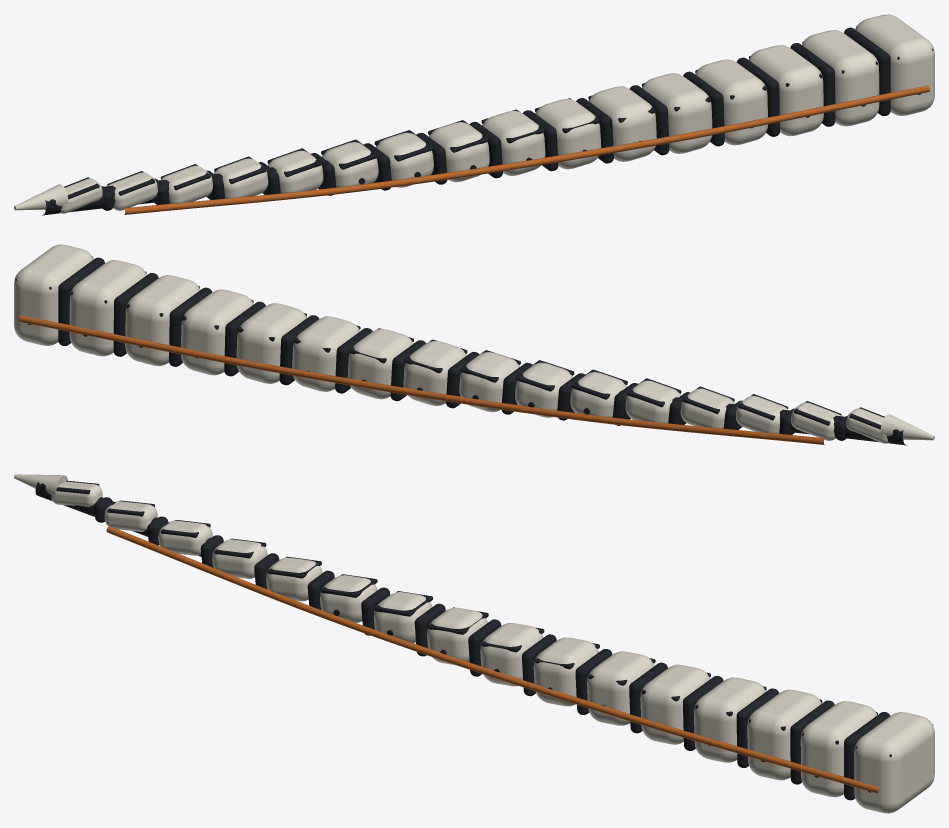
The model's file is tail_link.glb.
3 views of the same model, one above another, from view 1: azimuth 30°, elevation 25°; view 2: azimuth 150°, elevation 25°; view 3: azimuth 330°, elevation 25° (orthographic).
Parts seen in each view (by area): view 1: tail_link; view 2: tail_link; view 3: tail_link.
Part boxes in pixels (bbox=[...]): tail_link: bbox=[14, 14, 934, 215]; tail_link: bbox=[14, 244, 934, 445]; tail_link: bbox=[14, 474, 934, 813].
Bounding box in the file's own units: 0.962 × 0.122 × 0.0961.
